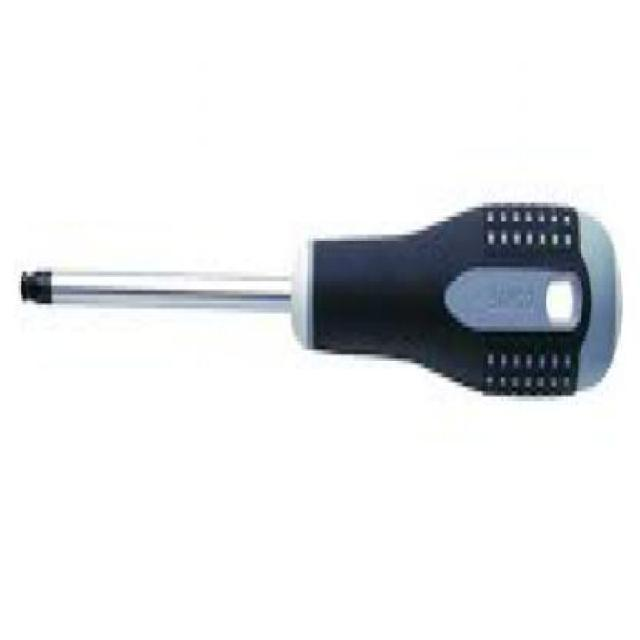screwdriver: (18, 202, 620, 387)
